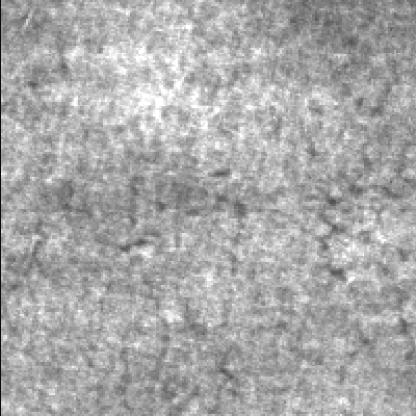crazing: (56, 162, 248, 412), (314, 50, 416, 383)
